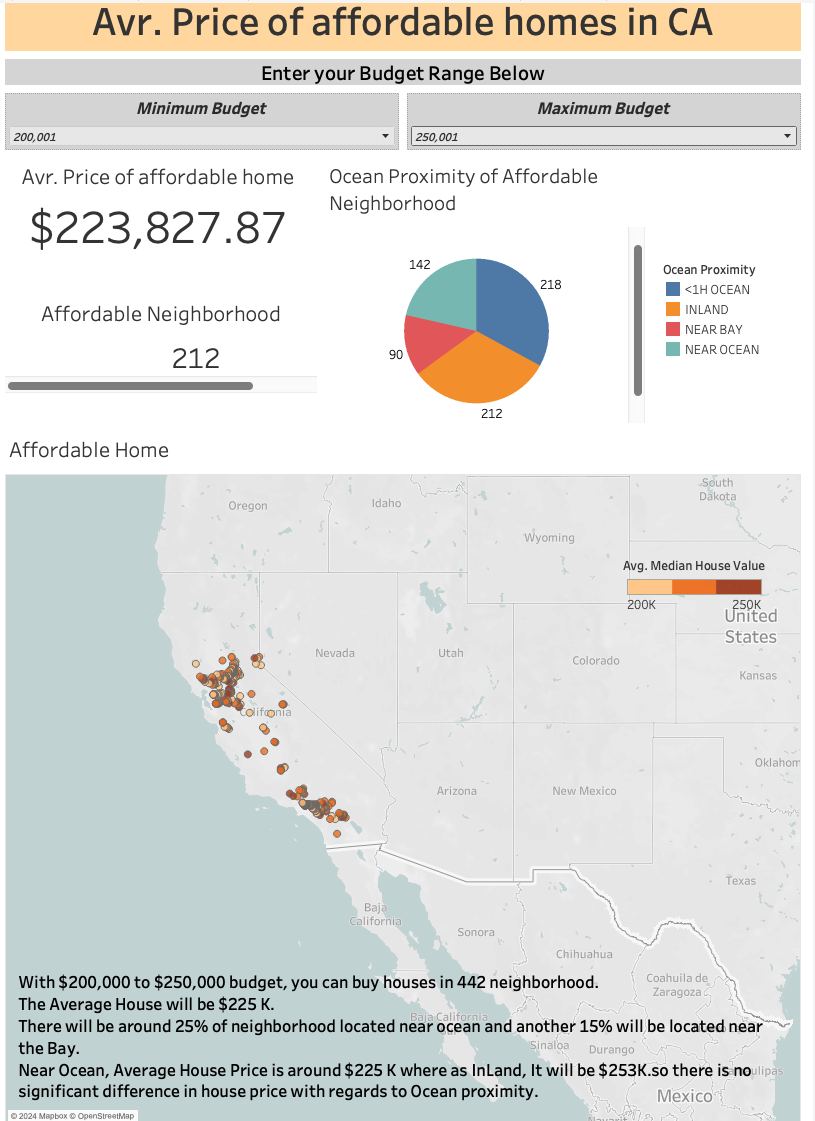

The dashboard page shown, as its layout file describes it:
{"tool":"tableau","page":{"name":"Avr. Price of affordable homes in CA","canvas":[1000,1000],"units":"permille","ordinal":0},"visuals":[{"type":"title","box":[9.8,6.9,980.5,60.4]},{"type":"text","box":[9.8,67.2,980.5,29.3]},{"type":"parameter","param":"[Parameters].[Parameter 1]","box":[9.8,96.6,490.2,56]},{"type":"parameter","param":"[Parameters].[Enter your Budget (copy)_5461177540087558150]","box":[500,96.6,490.2,56]},{"type":"worksheet","title":"Avr. Price of affordable home","mark":"Automatic","box":[9.8,152.6,390.2,117.7]},{"type":"worksheet","title":"Ocean Proximity of Affordable Neighborhood","mark":"Pie","box":[400,152.6,590.2,235.7]},{"type":"legend","title":"Ocean Proximity of Affordable Neighborhood","param":"[federated.0e5wdql09sb56g10pghwm11j47eq].[none:ocean_proximity:nk]","box":[817.1,244.8,170.7,122.9]},{"type":"worksheet","title":"Affordable Neighborhood","mark":"Text","box":[9.8,270.3,390.2,118]},{"type":"worksheet","title":"Affordable Home","mark":"Multipolygon","rows":["latitude"],"cols":["longitude"],"box":[9.8,388.3,980.5,604.8]},{"type":"legend","title":"Affordable Home","param":"[federated.0e5wdql09sb56g10pghwm11j47eq].[avg:median_house_value:qk]","box":[768.3,500,174.4,79.2]},{"type":"text","box":[28.1,842.2,931.7,143.1]}]}

Visuals, with their boxes on the dashboard's canvas, which has no fixed pixel size, in thousandths of its width and height (x1, y1, x2, y2). These are canvas units, not pixel positions in the 815x1121 screenshot, which may show the page scaled, cropped or inside an application window:
title: bbox=(10, 7, 990, 67)
text: bbox=(10, 67, 990, 96)
parameter: bbox=(10, 97, 500, 153)
parameter: bbox=(500, 97, 990, 153)
"Avr. Price of affordable home" worksheet: bbox=(10, 153, 400, 270)
"Ocean Proximity of Affordable Neighborhood" worksheet (Pie marks): bbox=(400, 153, 990, 388)
"Ocean Proximity of Affordable Neighborhood" legend: bbox=(817, 245, 988, 368)
"Affordable Neighborhood" worksheet (Text marks): bbox=(10, 270, 400, 388)
"Affordable Home" worksheet (Multipolygon marks): bbox=(10, 388, 990, 993)
"Affordable Home" legend: bbox=(768, 500, 943, 579)
text: bbox=(28, 842, 960, 985)
